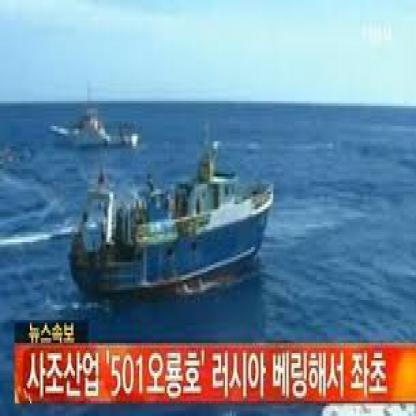fish-b: (61, 138, 282, 292)
